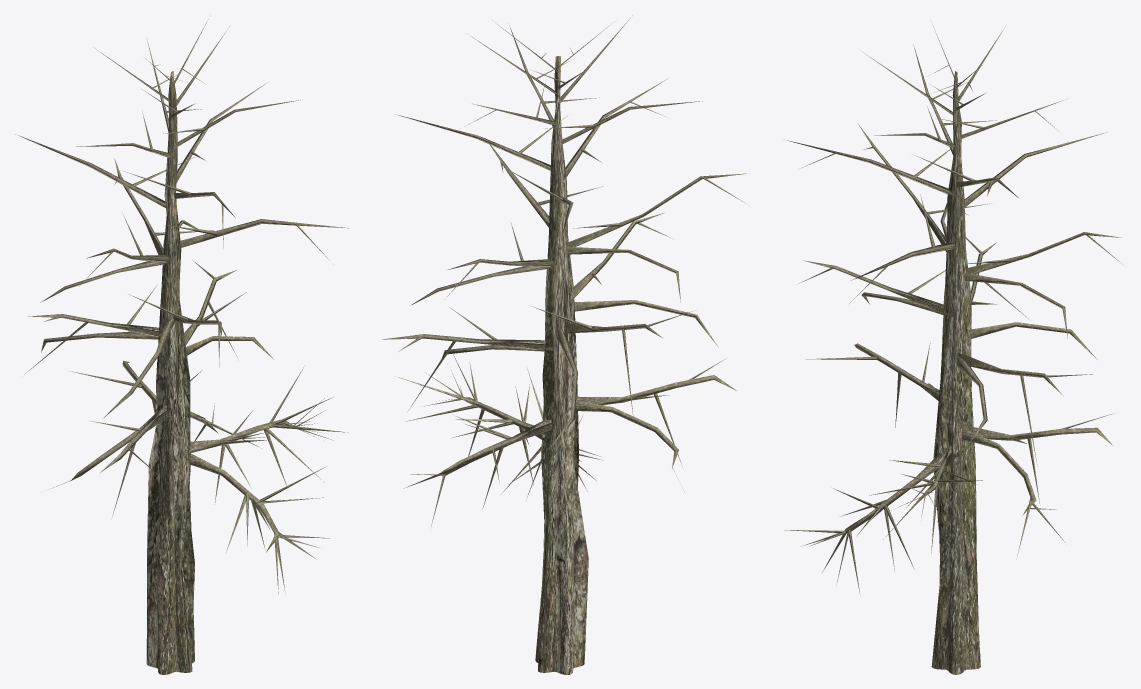
Rendered from arvore_folha_verdinho_3.fbx.
3 renders of one model, left to right at view 1: azimuth 30°, elevation 25°; view 2: azimuth 150°, elevation 25°; view 3: azimuth 270°, elevation 25°, orthographic. The views are drawn at different scales.
Parts seen in each view (by area): view 1: mossybark03_0; view 2: mossybark03_0; view 3: mossybark03_0.
Part boxes in pixels (x1,y1,x2,y2): mossybark03_0: [15, 19, 348, 674]; mossybark03_0: [382, 15, 749, 674]; mossybark03_0: [784, 21, 1124, 674].
Size of the model in its own units: 356 by 741 by 370.
